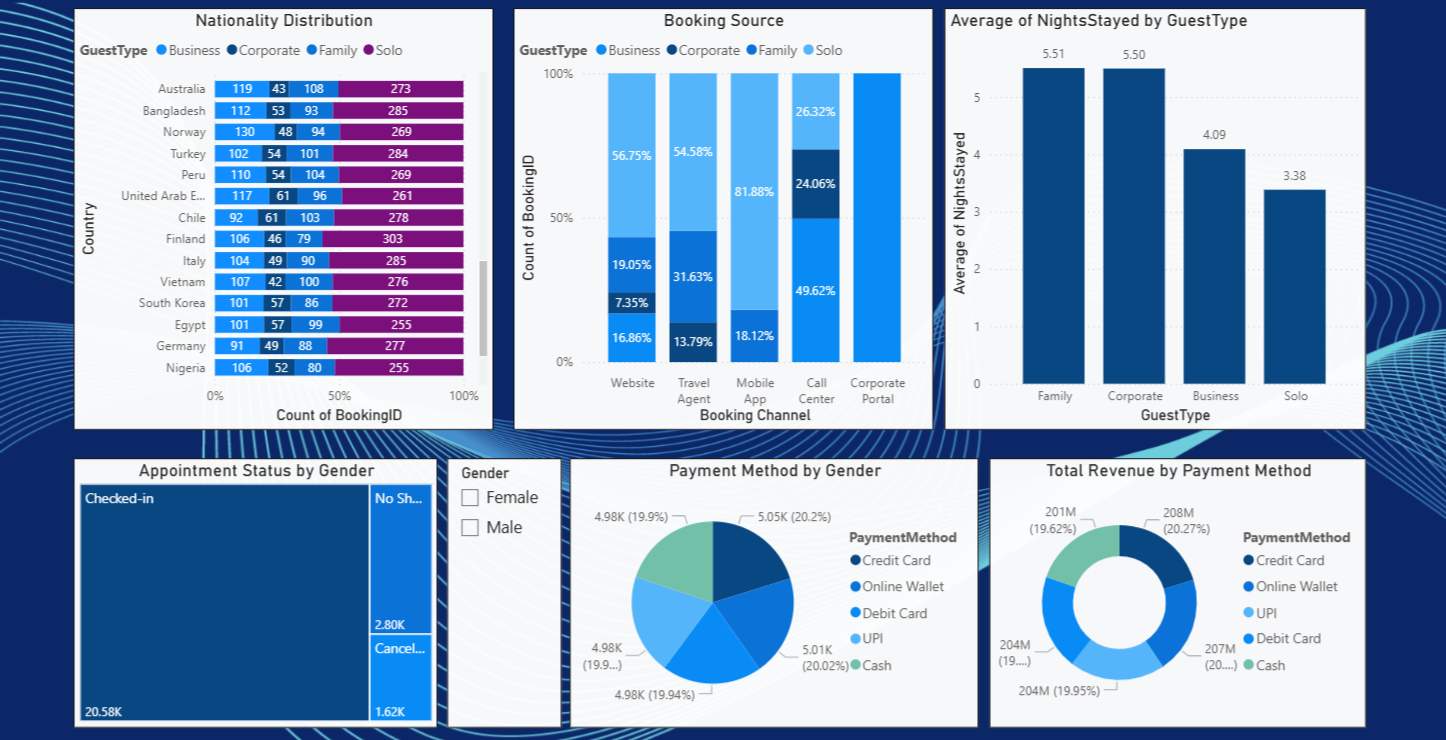

The dashboard page shown, as its layout file describes it:
{"tool":"powerbi","page":{"name":"Guest Analysis","canvas":[1280,720],"ordinal":4},"visuals":[{"type":"hundredPercentStackedBarChart","title":"Nationality Distribution","fields":{"Series":["Bookings.GuestType"],"Category":["Customer.Country"],"Y":["CountNonNull(Bookings.BookingID)"]},"box":[10,10,406.8,409.3],"z":0},{"type":"hundredPercentStackedColumnChart","title":"Booking Source","fields":{"Category":["Bookings.Booking Channel"],"Series":["Bookings.GuestType"],"Y":["CountNonNull(Bookings.BookingID)"]},"box":[436.6,10,406.8,409.3],"z":1000},{"type":"clusteredColumnChart","fields":{"Y":["Avg(Bookings.NightsStayed)"],"Category":["Bookings.GuestType"]},"box":[854.6,10,409.3,409.3],"z":2000},{"type":"treemap","title":"Appointment Status by Gender","fields":{"Group":["Bookings.BookingStatus"],"Values":["CountNonNull(Bookings.BookingID)"]},"box":[10,446.6,353.3,261.2],"z":3000},{"type":"slicer","fields":{"Values":["Customer.Gender"]},"box":[371.9,446.6,110.7,261.2],"z":4000},{"type":"pieChart","title":"Payment Method by Gender","fields":{"Y":["CountNonNull(Bookings.BookingID)"],"Category":["Bookings.PaymentMethod"]},"box":[491.4,446.6,396.8,261.2],"z":5000},{"type":"donutChart","title":"Total Revenue by Payment Method","fields":{"Category":["Bookings.PaymentMethod"],"Y":["Sum(Bookings.Revenue)"]},"box":[898.1,446.6,365.7,261.2],"z":6000}]}

Visuals, with their boxes on the page's 1280x720 design canvas (x1, y1, x2, y2). These are canvas units, not pixel positions in the 1446x740 screenshot, which may show the page scaled, cropped or inside an application window:
"Nationality Distribution" hundredPercentStackedBarChart: box=[10, 10, 417, 419]
"Booking Source" hundredPercentStackedColumnChart: box=[437, 10, 843, 419]
clusteredColumnChart - Avg(Bookings.NightsStayed) x Bookings.GuestType: box=[855, 10, 1264, 419]
"Appointment Status by Gender" treemap: box=[10, 447, 363, 708]
slicer - Customer.Gender: box=[372, 447, 483, 708]
"Payment Method by Gender" pieChart: box=[491, 447, 888, 708]
"Total Revenue by Payment Method" donutChart: box=[898, 447, 1264, 708]
